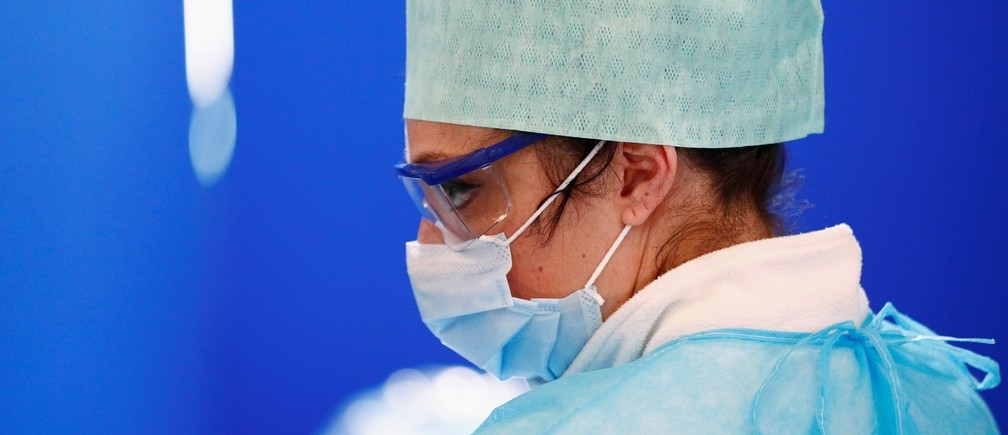face_with_mask: (395, 6, 780, 383), (377, 4, 714, 419)
